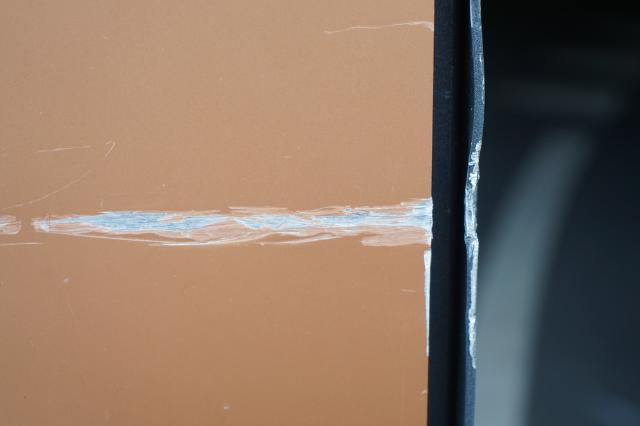scratch: (0, 197, 434, 358), (464, 136, 480, 374)
